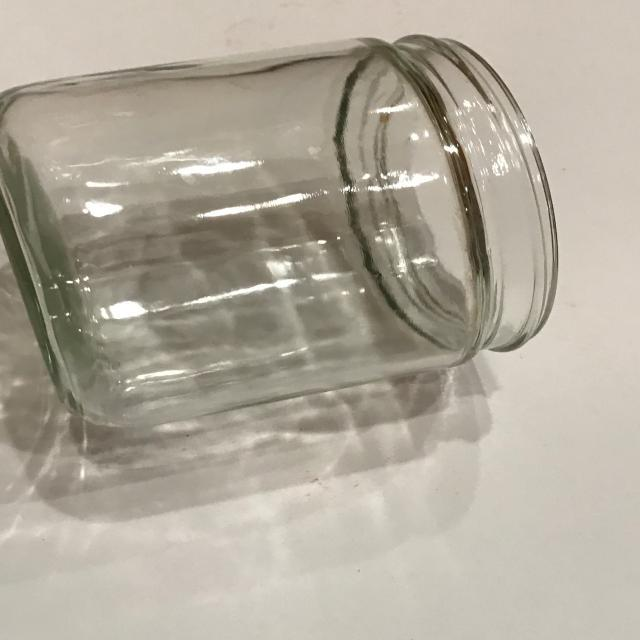glass: (2, 35, 562, 422)
